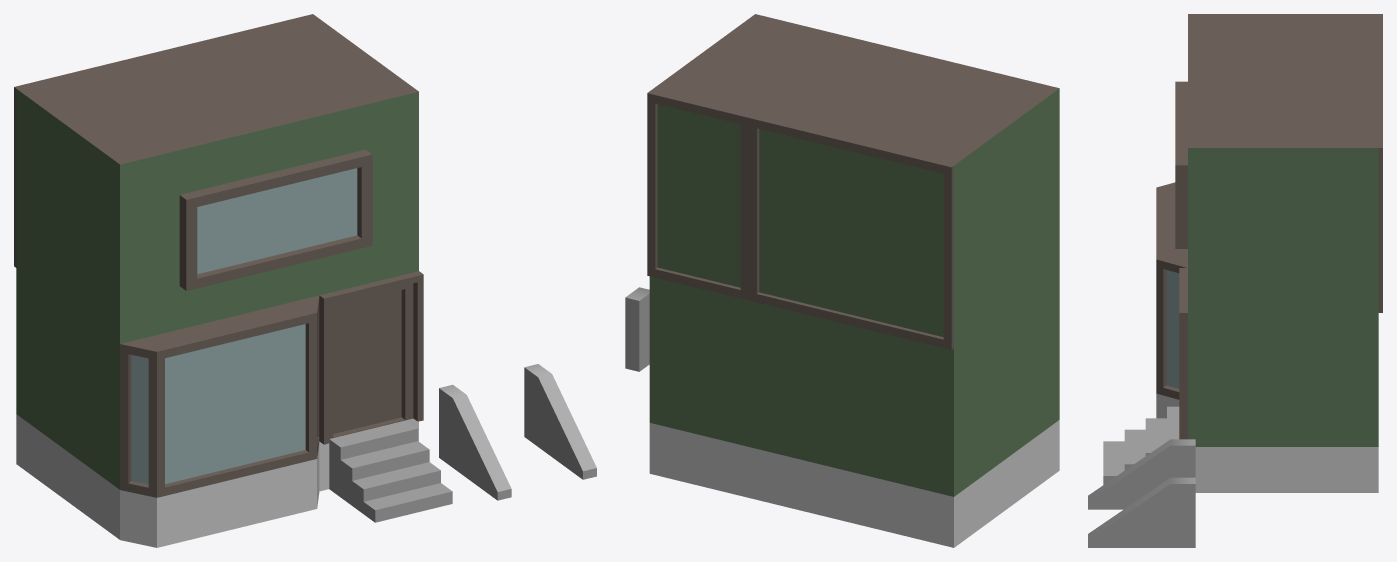
File: shop3.fbx
3 renders of one model, left to right at view 1: azimuth 30°, elevation 25°; view 2: azimuth 150°, elevation 25°; view 3: azimuth 270°, elevation 25°, orthographic. The views are drawn at different scales.
Visible parts, largest first — view 1: pCube7, pCube11, pCube10, pCube8, pCube9; view 2: pCube7, pCube8; view 3: pCube7, pCube8, pCube9, pCube10, pCube11.
Boxes of the visible parts, x1=… form: pCube7: x1=14, y1=14, x2=423, y2=547; pCube11: x1=179, y1=149, x2=372, y2=290; pCube10: x1=329, y1=420, x2=452, y2=522; pCube8: x1=524, y1=364, x2=596, y2=479; pCube9: x1=439, y1=384, x2=511, y2=500; pCube7: x1=647, y1=14, x2=1059, y2=547; pCube8: x1=625, y1=287, x2=649, y2=371; pCube7: x1=1156, y1=14, x2=1382, y2=492; pCube8: x1=1088, y1=477, x2=1195, y2=547; pCube9: x1=1088, y1=439, x2=1195, y2=509; pCube10: x1=1103, y1=406, x2=1179, y2=484; pCube11: x1=1175, y1=81, x2=1187, y2=248.
Size of the model in its own units: 21.19 by 18 by 13.95.
